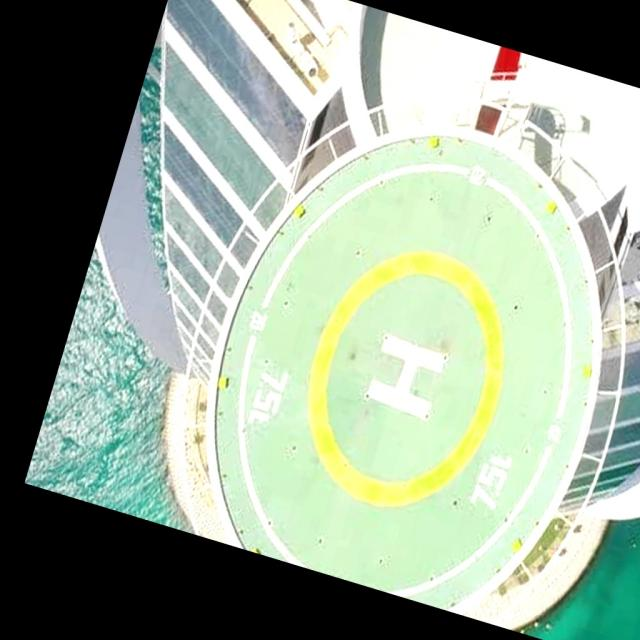helipad: (298, 245, 506, 511)
